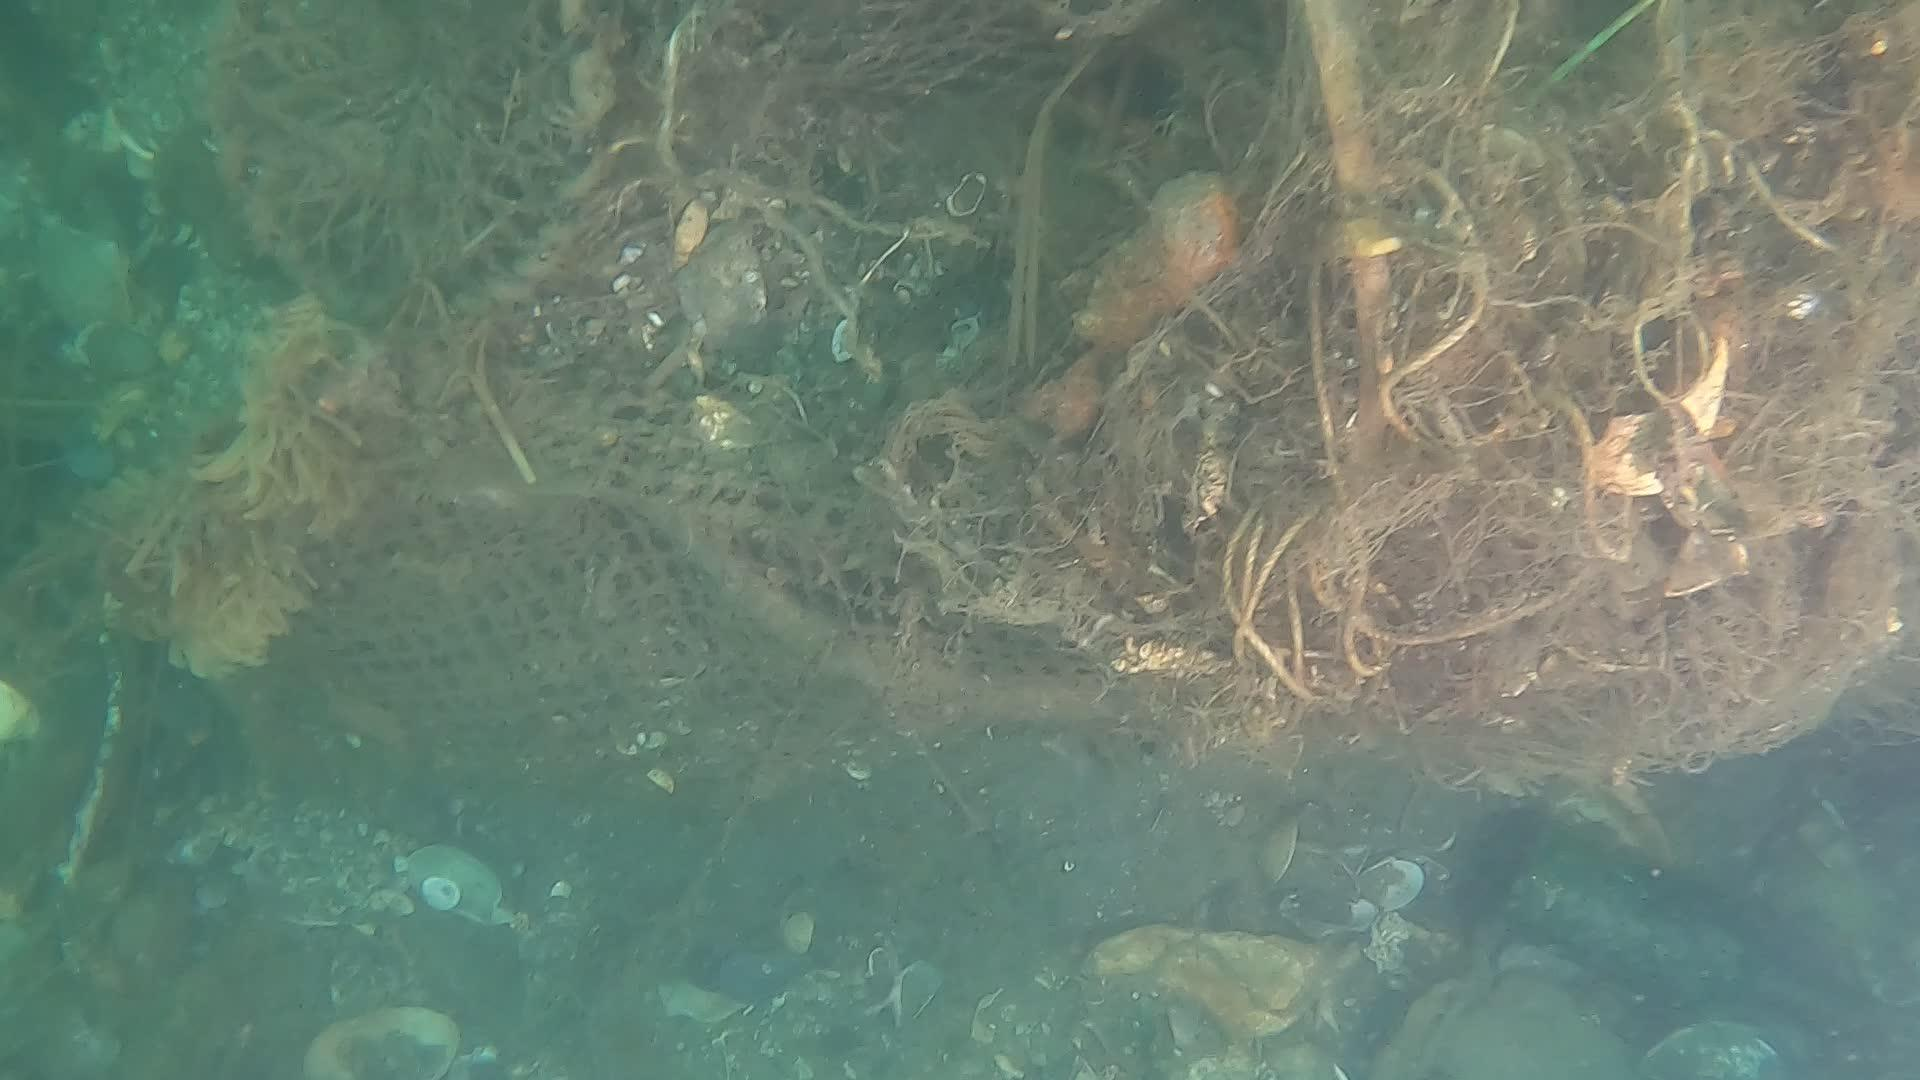bundle of ropes: (1218, 505, 1396, 704)
fish net: (320, 402, 1112, 764), (224, 0, 1065, 313)
